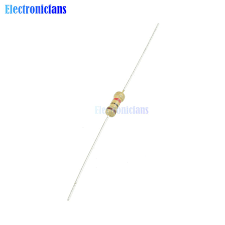resistor: (90, 79, 128, 138)
